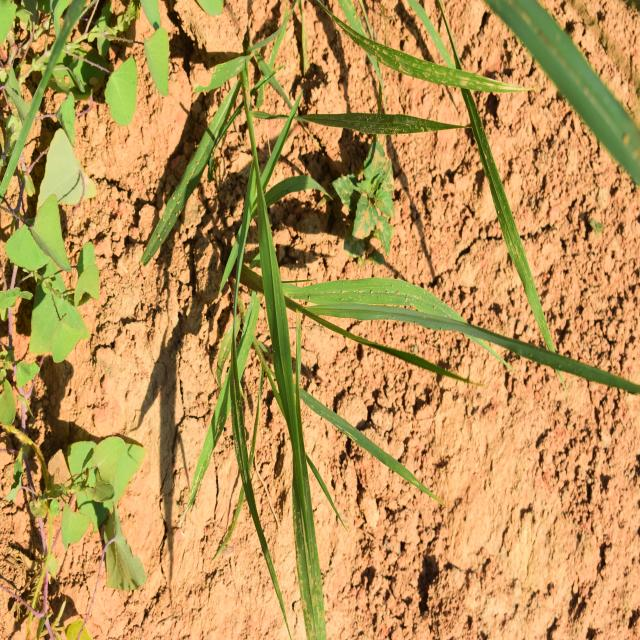green_foxtail: (174, 98, 406, 589)
